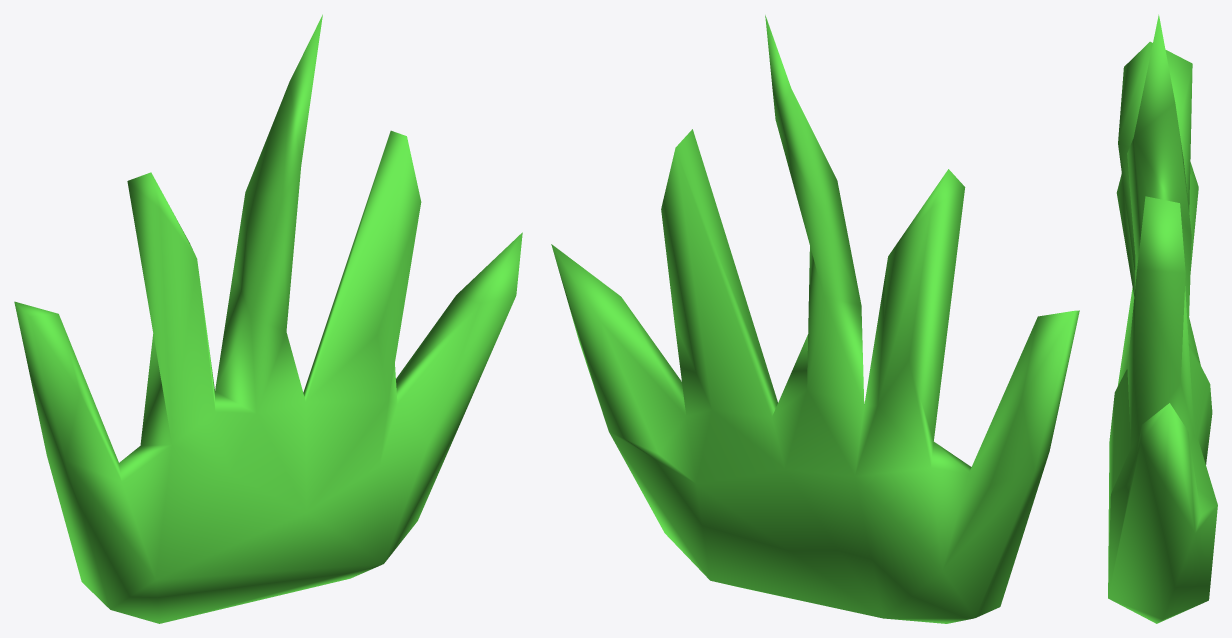
File: grass-a.glb
3 renders of one model, left to right at view 1: azimuth 30°, elevation 25°; view 2: azimuth 150°, elevation 25°; view 3: azimuth 270°, elevation 25°, orthographic. The views are drawn at different scales.
Visible parts, largest first — view 1: grass-a; view 2: grass-a; view 3: grass-a.
Boxes of the visible parts, x1=… form: grass-a: x1=14, y1=14, x2=522, y2=623; grass-a: x1=551, y1=15, x2=1079, y2=623; grass-a: x1=1108, y1=14, x2=1217, y2=623.
Size of the model in its own units: 2.97 by 3.17 by 0.5296.
